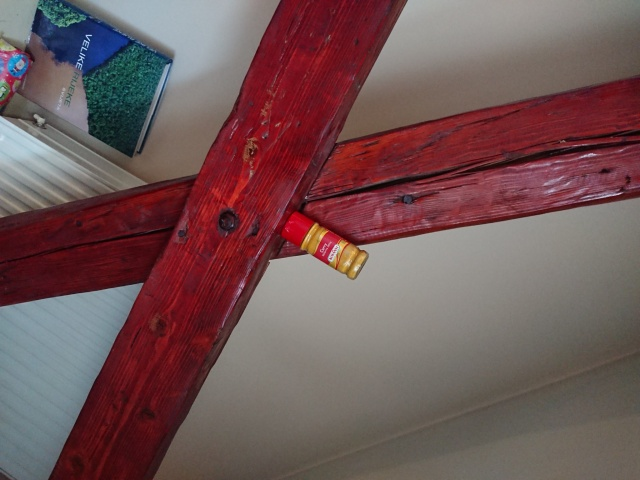Kotanyi Curry Spices Mix 70g: (279, 210, 371, 282)
